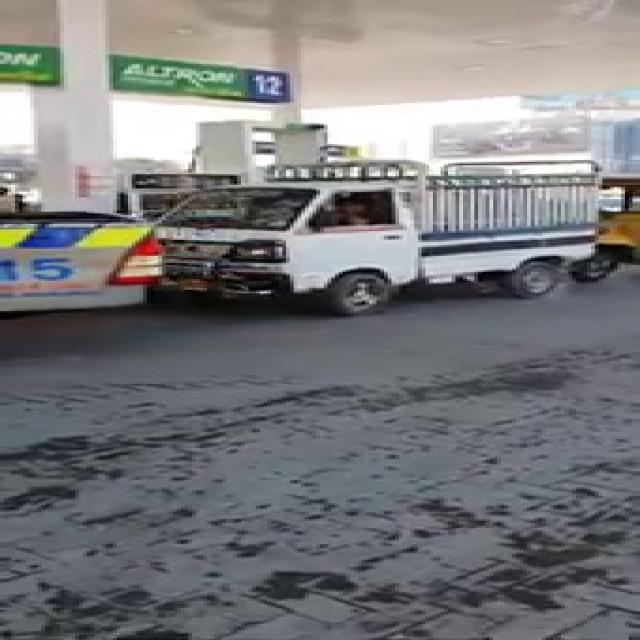police: (0, 176, 132, 356)
